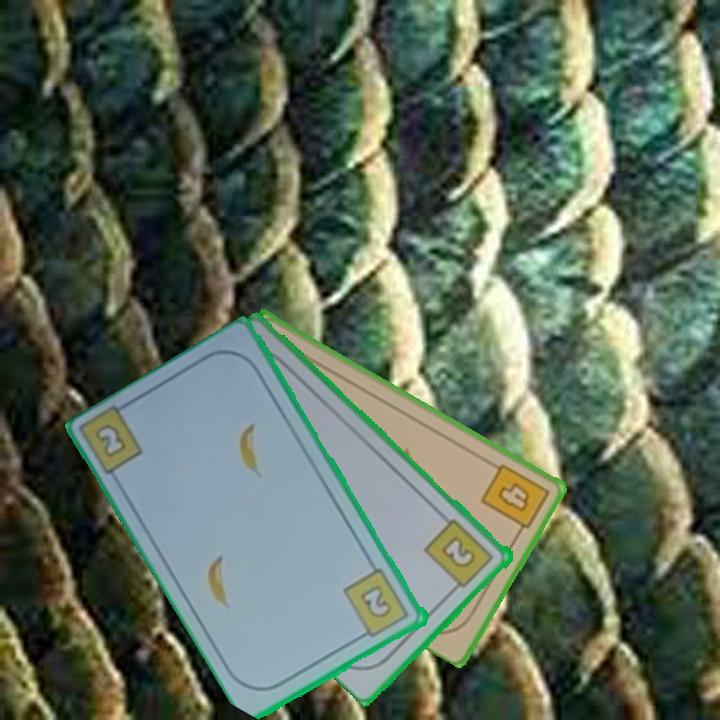2b: (421, 515, 497, 596), (340, 565, 413, 642), (92, 420, 130, 461)
4b: (477, 459, 553, 539)
